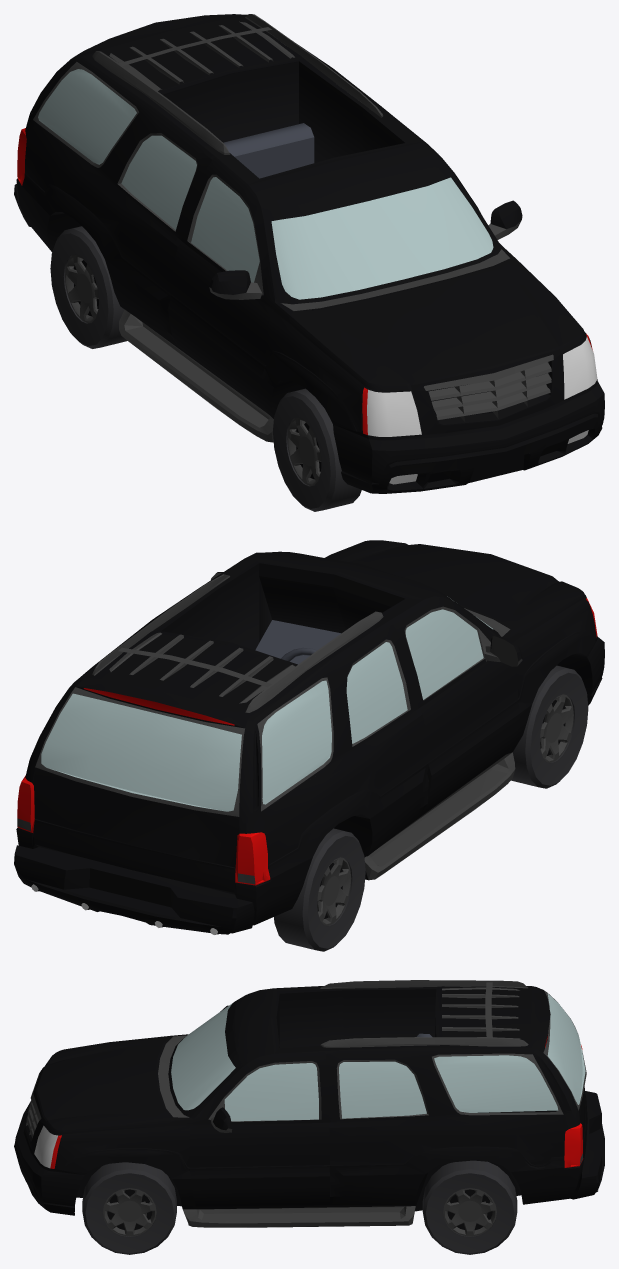
The model's file is Car_03_Cadillac_Escalade.fbx.
The picture shows the model from 3 angles, top to bottom: view 1: azimuth 30°, elevation 25°; view 2: azimuth 150°, elevation 25°; view 3: azimuth 270°, elevation 25°; orthographic projection. The views are drawn at different scales.
Visible parts, largest first — view 1: Car_03_Cadillac_Escalade_body, Car_03; view 2: Car_03_Cadillac_Escalade_body, Car_03; view 3: Car_03_Cadillac_Escalade_body, Car_03.
Boxes of the visible parts, x1,y1,x2,y2 form: Car_03_Cadillac_Escalade_body: (14, 14, 604, 493); Car_03: (50, 226, 361, 511); Car_03_Cadillac_Escalade_body: (14, 540, 604, 934); Car_03: (274, 665, 588, 951); Car_03_Cadillac_Escalade_body: (14, 980, 604, 1227); Car_03: (82, 1160, 517, 1254).
Bounding box in the file's own units: 8.44 × 6.81 × 18.18.
